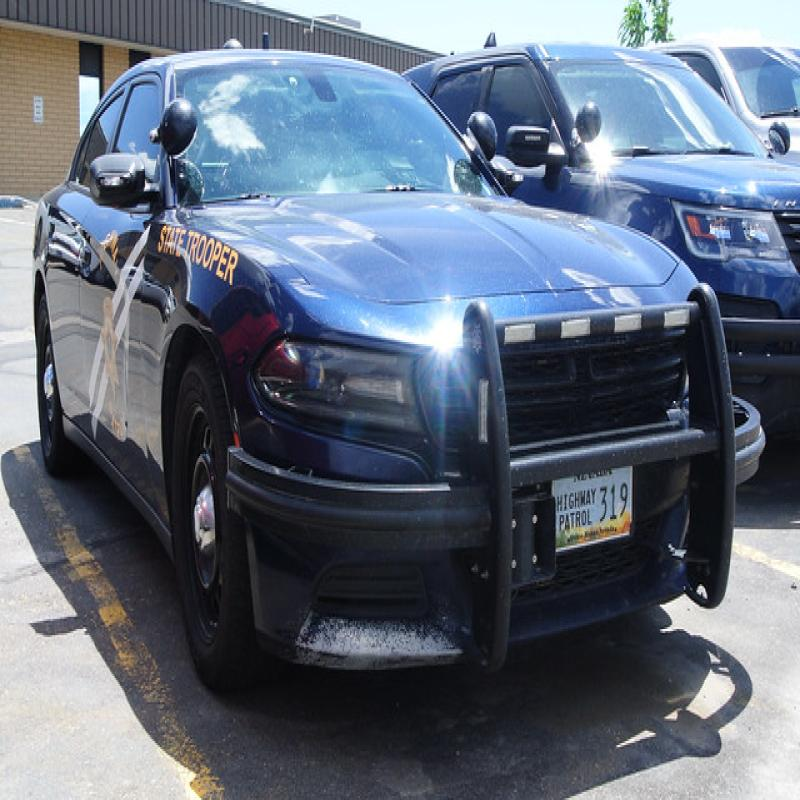car: (13, 8, 753, 742)
